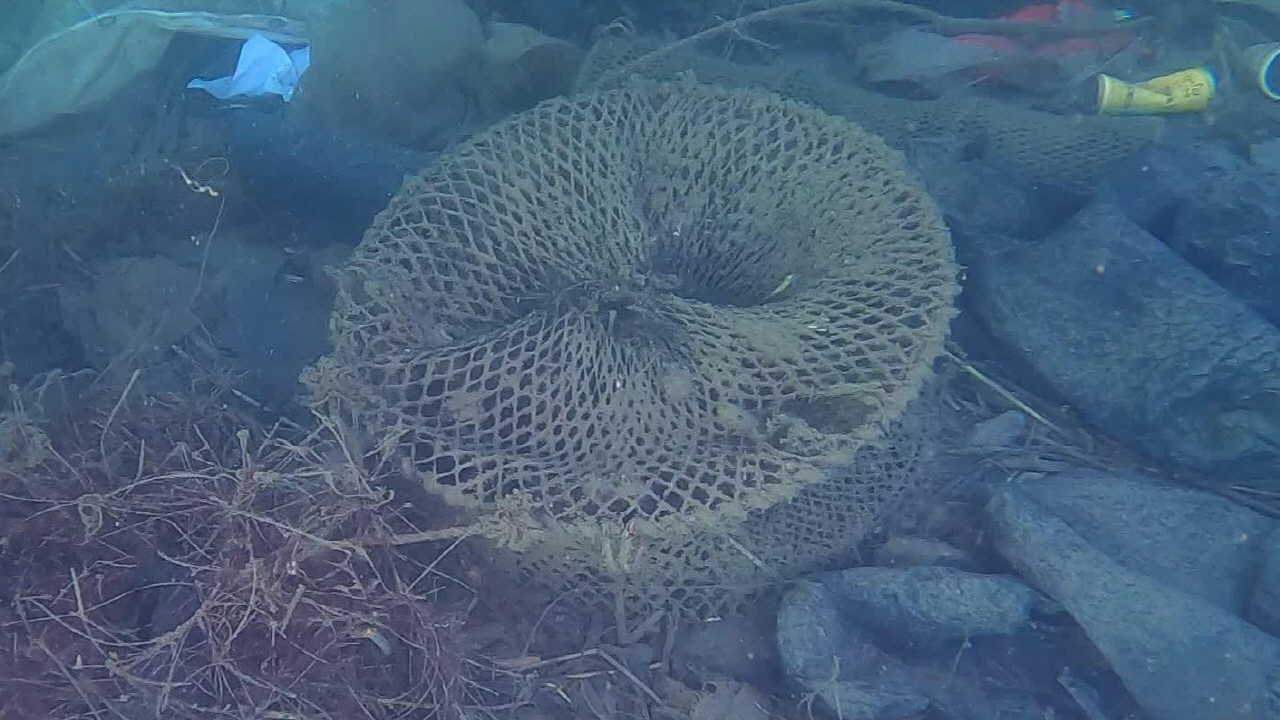circular fish trap: (328, 80, 957, 623)
spring fish trap: (572, 33, 1165, 189)
